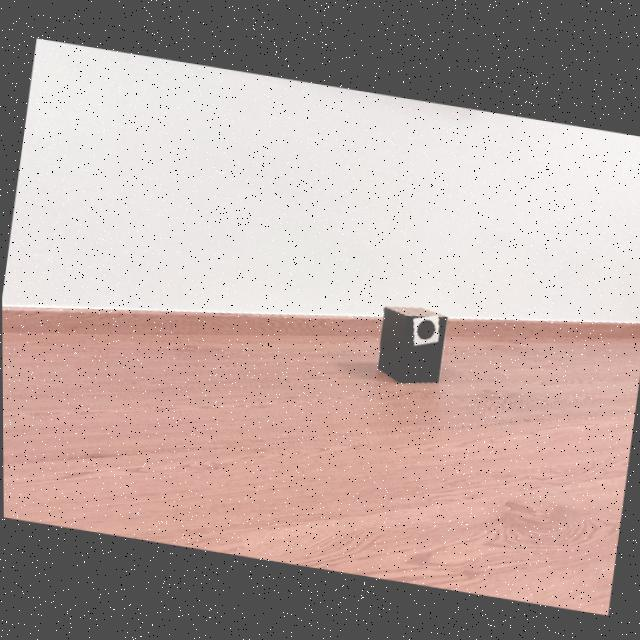CIRCLE: (416, 318, 434, 338)
